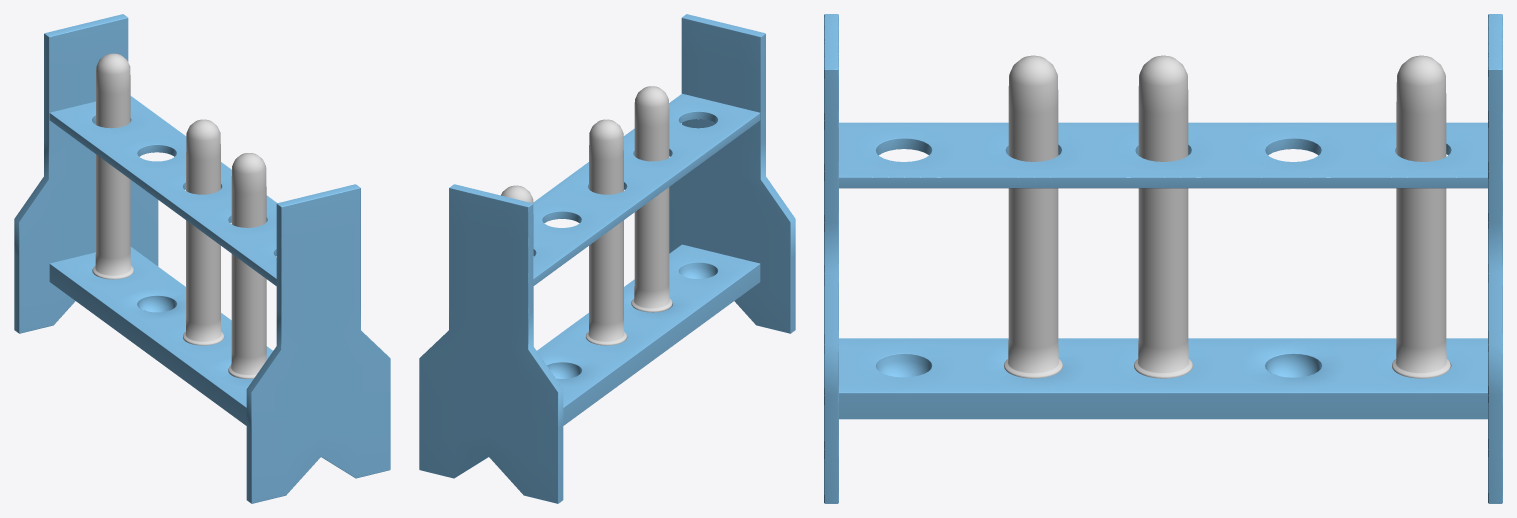
File: testtubestand.fbx
The picture shows the model from 3 angles, left to right: view 1: azimuth 30°, elevation 25°; view 2: azimuth 150°, elevation 25°; view 3: azimuth 270°, elevation 25°; orthographic projection. The views are drawn at different scales.
Parts seen in each view (by area): view 1: Test-Tube Rack.Shape.003; view 2: Test-Tube Rack.Shape.003; view 3: Test-Tube Rack.Shape.003.
Boxes of the visible parts, x1,y1,x2,y2 form: Test-Tube Rack.Shape.003: [14, 14, 390, 503]; Test-Tube Rack.Shape.003: [419, 14, 795, 503]; Test-Tube Rack.Shape.003: [824, 14, 1502, 503].
Bounding box in the file's own units: 11.47 × 22.79 × 33.85.
